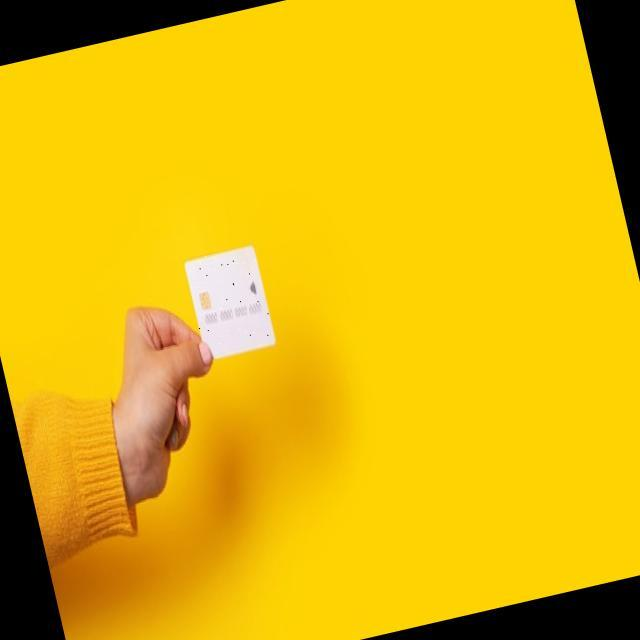payment_card: (183, 244, 276, 360)
